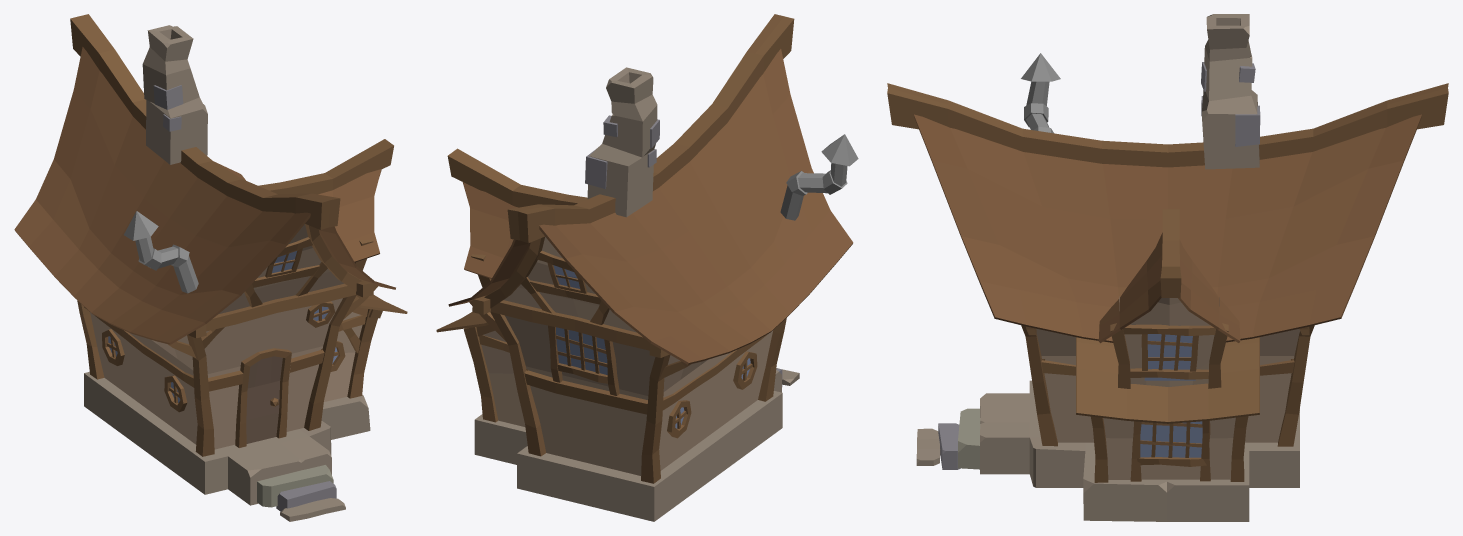
Rendered from House_No_Porch.fbx.
3 renders of one model, left to right at view 1: azimuth 30°, elevation 25°; view 2: azimuth 150°, elevation 25°; view 3: azimuth 270°, elevation 25°, orthographic. The views are drawn at different scales.
Visible parts, largest first — view 1: House_No_Porch; view 2: House_No_Porch; view 3: House_No_Porch.
Boxes of the visible parts, x1=… form: House_No_Porch: x1=14, y1=14, x2=407, y2=521; House_No_Porch: x1=436, y1=14, x2=858, y2=521; House_No_Porch: x1=887, y1=14, x2=1448, y2=521.
Bounding box in the file's own units: 782 × 897 × 1065.
